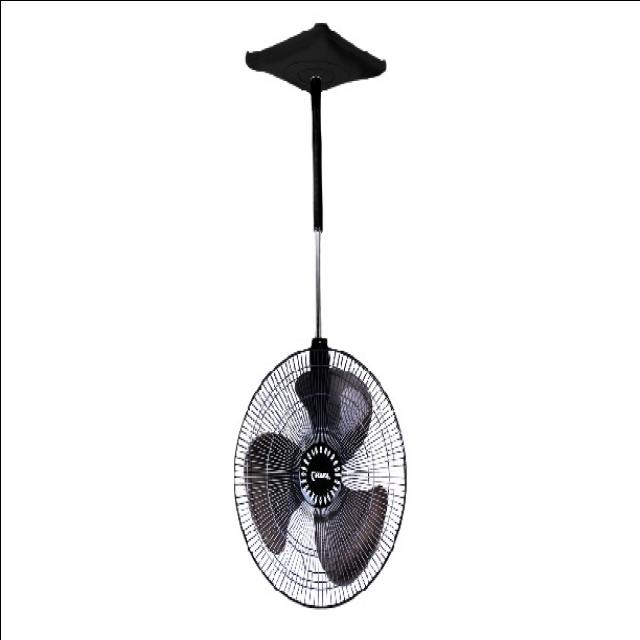fan: (235, 23, 408, 615)
